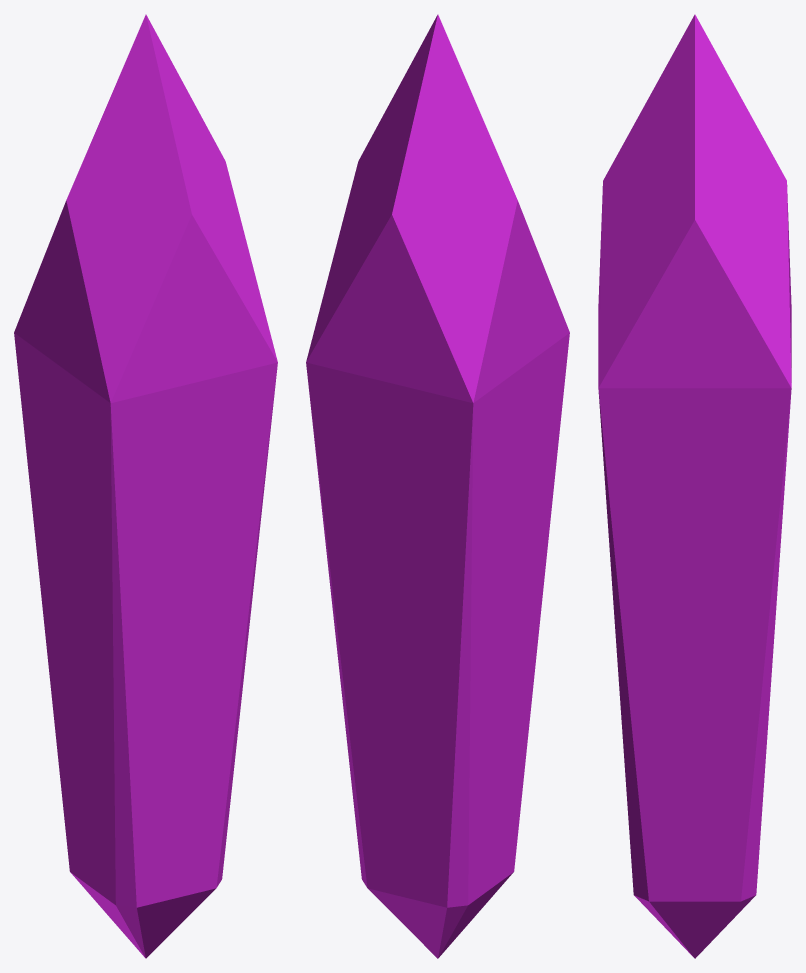
Rendered from SM_Crystal_Pink.fbx.
The picture shows the model from 3 angles, left to right: view 1: azimuth 30°, elevation 25°; view 2: azimuth 150°, elevation 25°; view 3: azimuth 270°, elevation 25°; orthographic projection.
Parts seen in each view (by area): view 1: Crystal_Pink.001; view 2: Crystal_Pink.001; view 3: Crystal_Pink.001.
Part boxes in pixels (box(x1,y1,x2,y2)): Crystal_Pink.001: box(14, 14, 277, 958); Crystal_Pink.001: box(306, 14, 569, 958); Crystal_Pink.001: box(598, 14, 791, 958).
Size of the model in its own units: 63.01 by 340 by 63.01.
